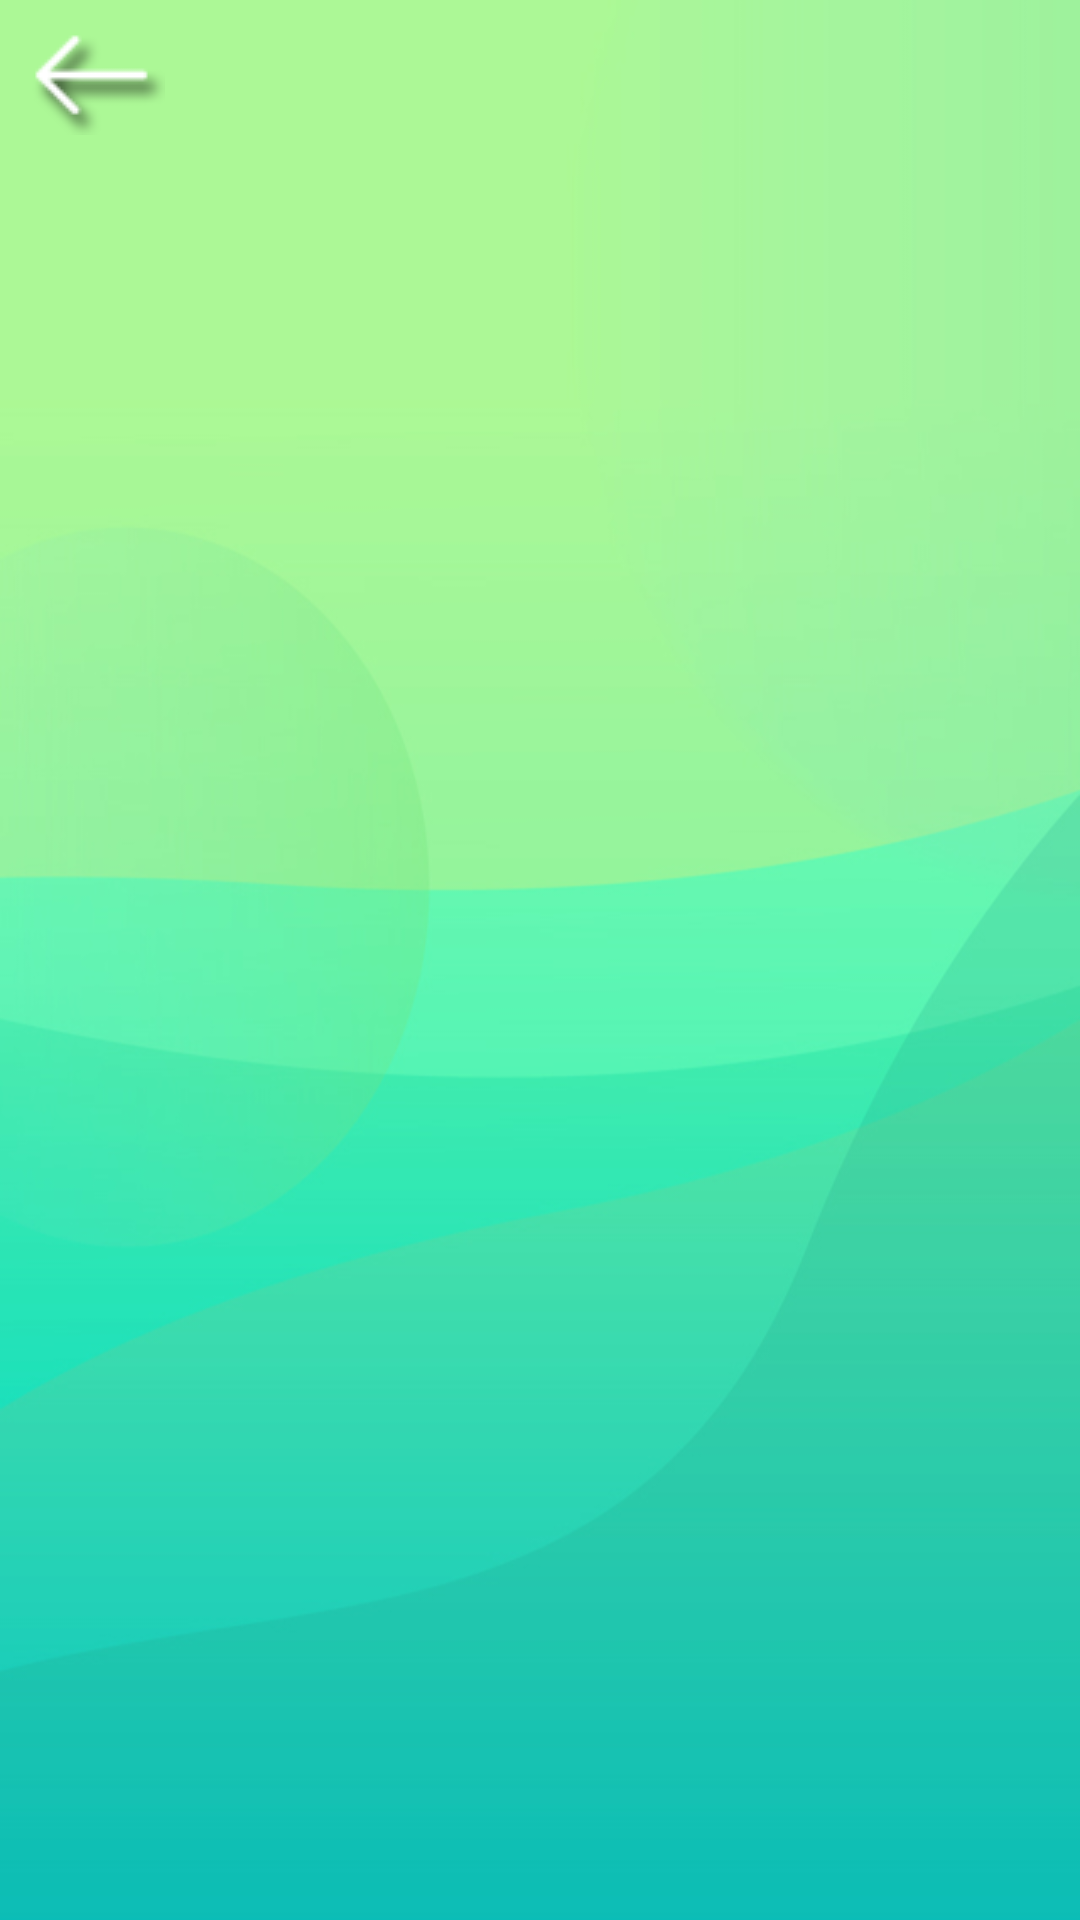

Screen size 1080 x 1920. Icon name, then its center in pixels as (x=x, y=y):
backarrowshade: (x=97, y=82)
